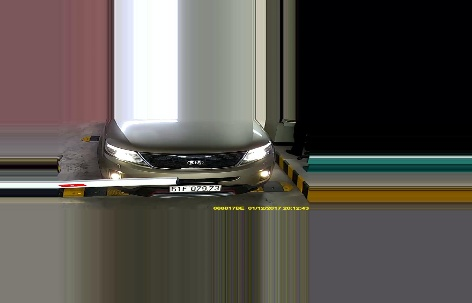plate: (168, 181, 222, 195)
